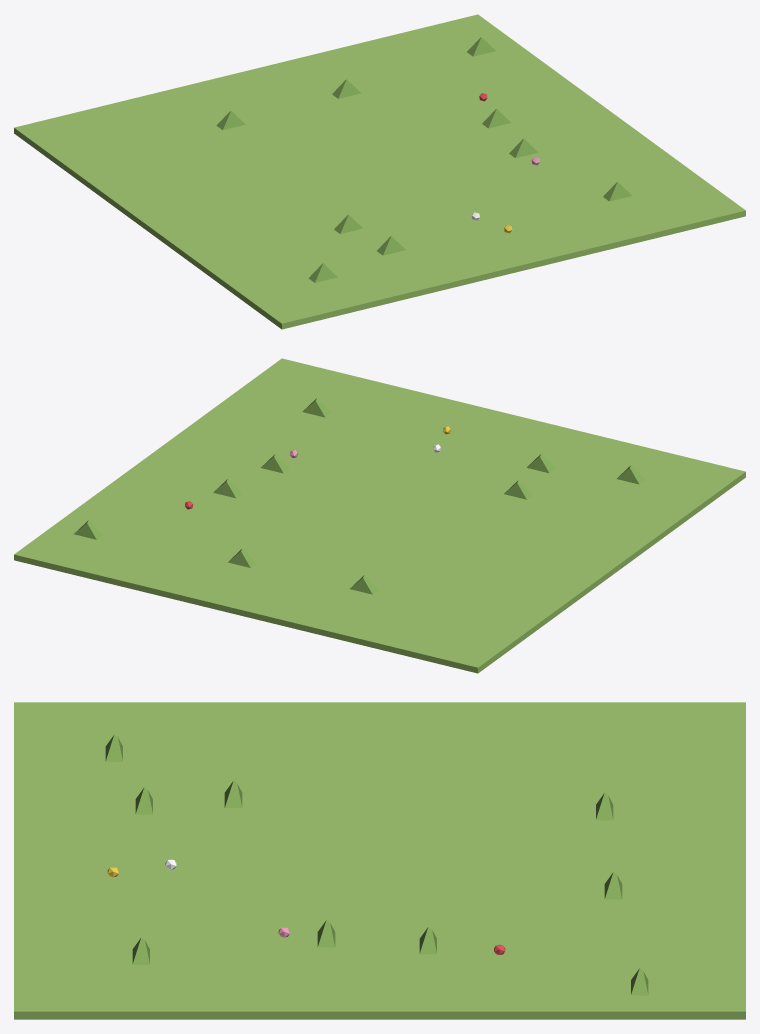
File: Yol_grass_Hafif.fbx
3 renders of one model, top to bottom at view 1: azimuth 30°, elevation 25°; view 2: azimuth 150°, elevation 25°; view 3: azimuth 270°, elevation 25°, orthographic. The views are drawn at different scales.
Parts seen in each view (by area): view 1: Yol_grass_Hafif; view 2: Yol_grass_Hafif; view 3: Yol_grass_Hafif.
Boxes of the visible parts, bbox=[...] form: Yol_grass_Hafif: bbox=[14, 14, 745, 329]; Yol_grass_Hafif: bbox=[14, 358, 745, 673]; Yol_grass_Hafif: bbox=[14, 702, 745, 1019].
Size of the model in its own units: 10 by 0.42 by 10.
